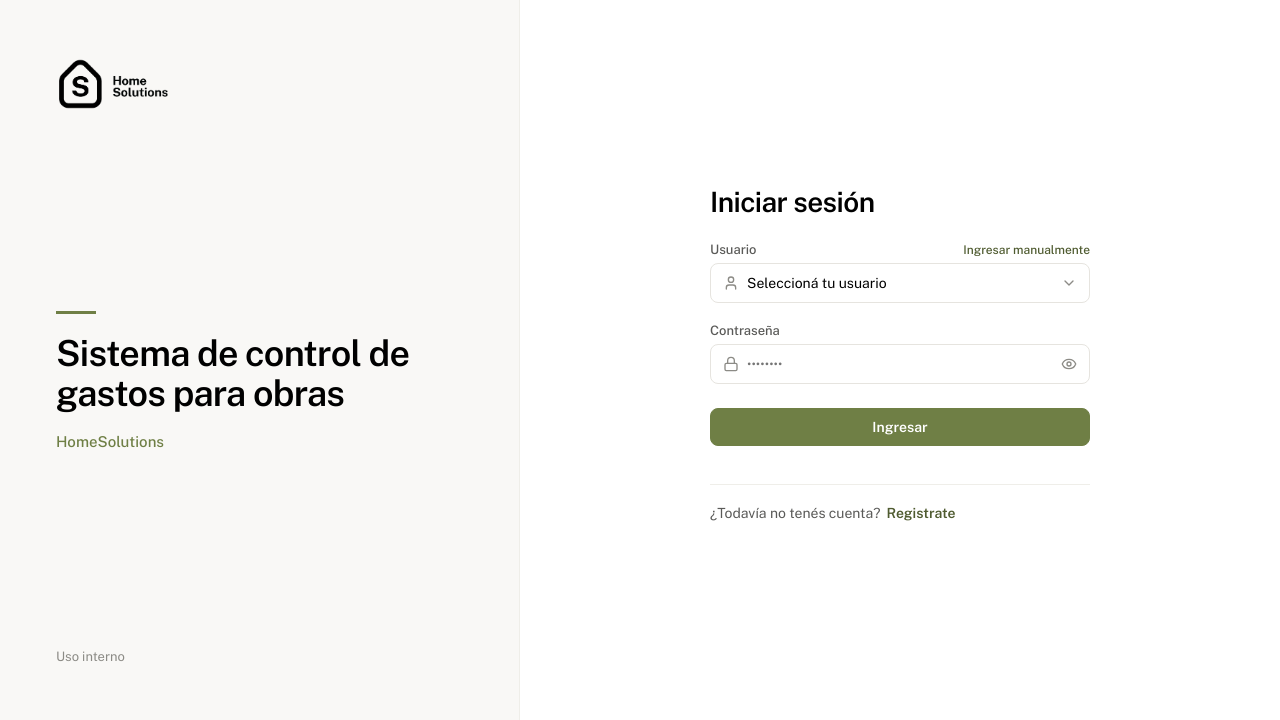
Test case: Login › muestra un error si se intenta enviar sin elegir usuario ni contraseña
The image size is (1280, 720).
Click the button "Ingresar" at (900,427), box x1=710 y1=408 x2=1090 y2=446
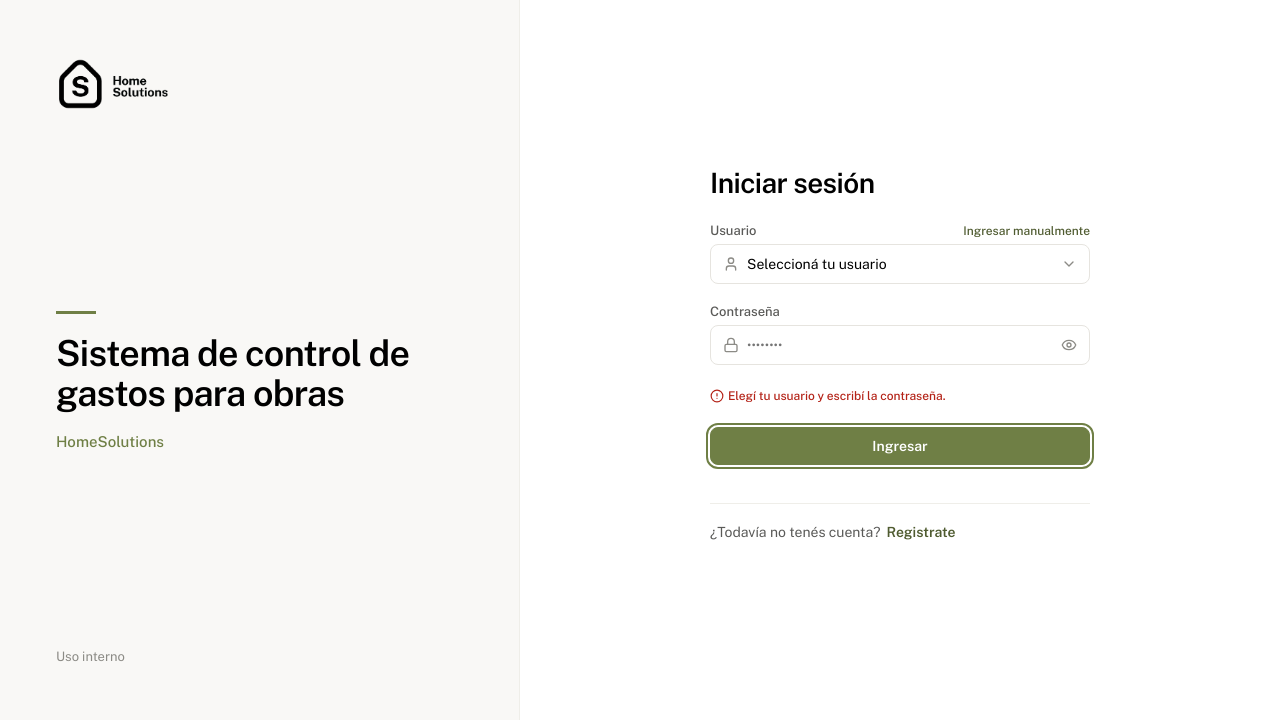
Expected: the text "Elegí tu usuario y escribí la contraseña." is shown, x1=710 y1=389 x2=946 y2=403
